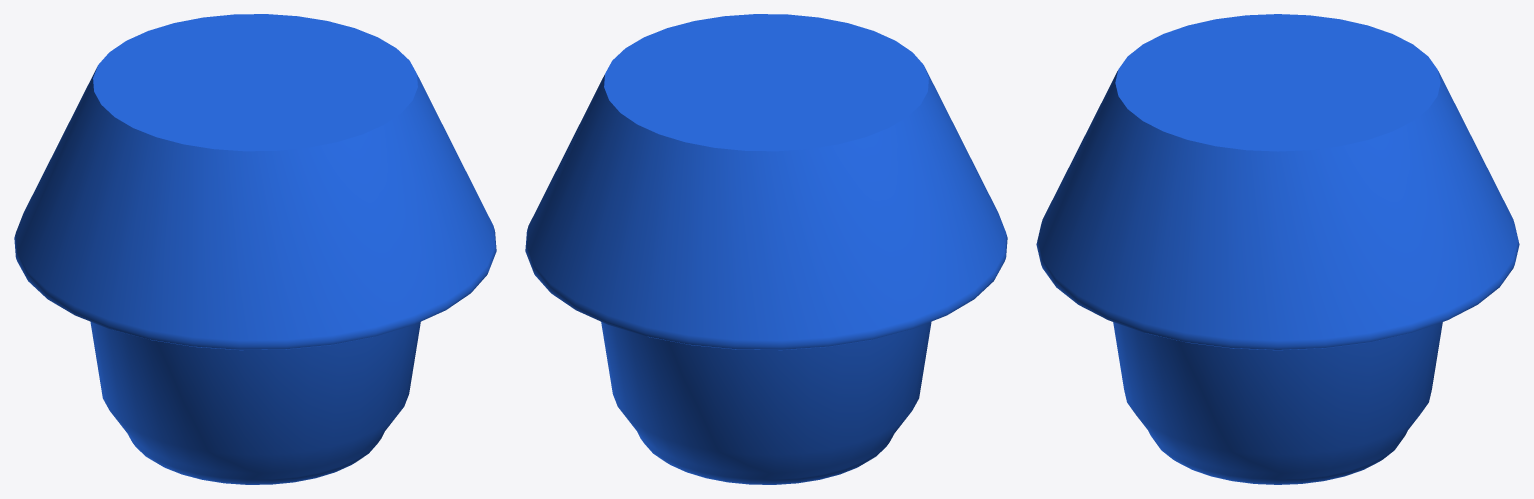
The model's file is Corcho Pocion.fbx.
3 views of the same model, side by side, from view 1: azimuth 30°, elevation 25°; view 2: azimuth 150°, elevation 25°; view 3: azimuth 270°, elevation 25° (orthographic).
Parts seen in each view (by area): view 1: Corcho; view 2: Corcho; view 3: Corcho.
Boxes of the visible parts, x1,y1,x2,y2 form: Corcho: (14,14,496,484); Corcho: (525,14,1007,484); Corcho: (1036,14,1519,484).
Bounding box in the file's own units: 3.14 × 2.54 × 3.14.
